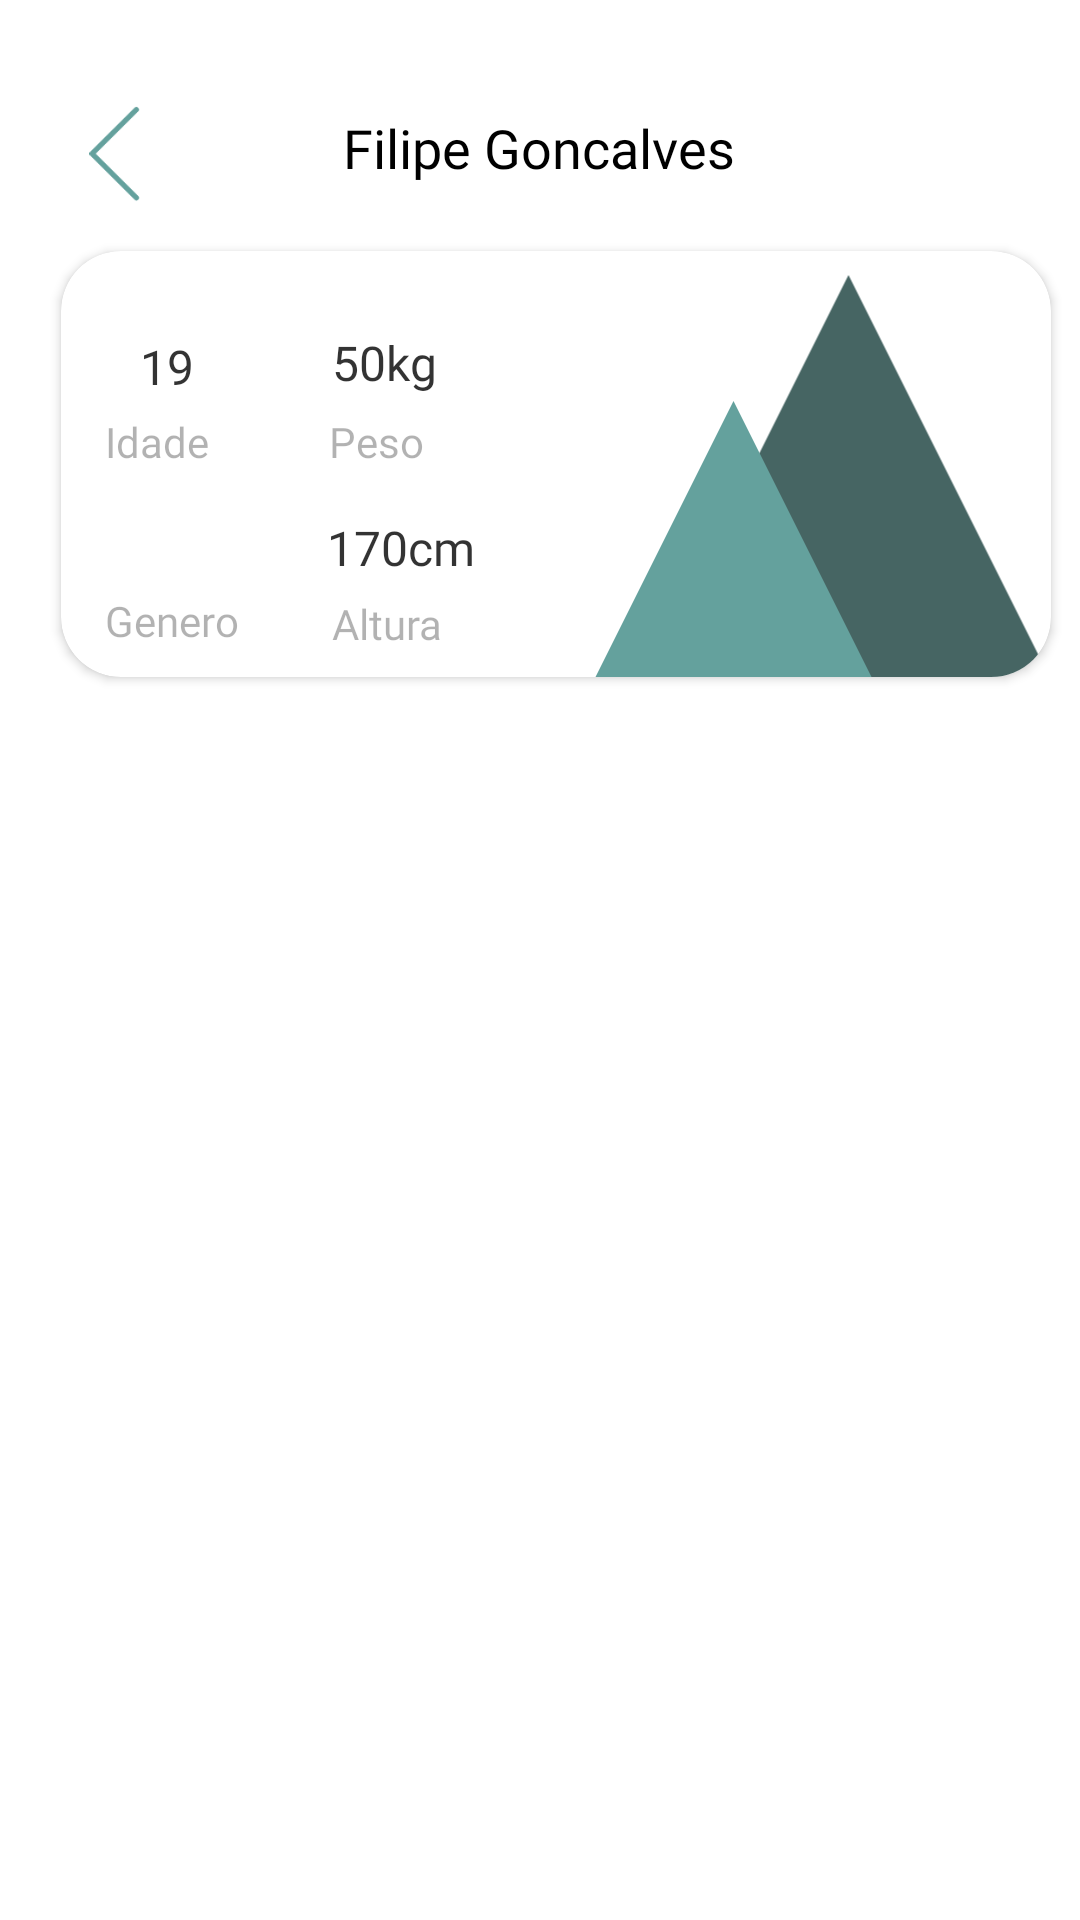

Locate icon controls on the screen. Image size 1080w x 1920h, boxes as (x1, y1, x2, y2).
voltar: (89, 107, 140, 201)
